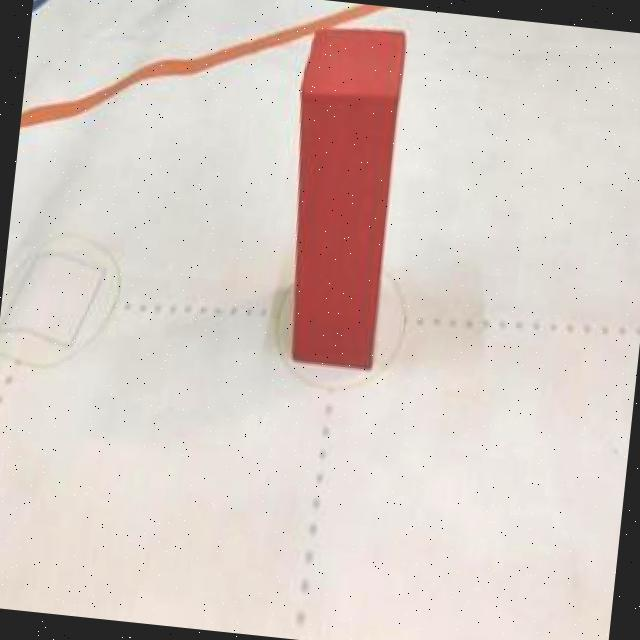redbox: (268, 19, 410, 370)
